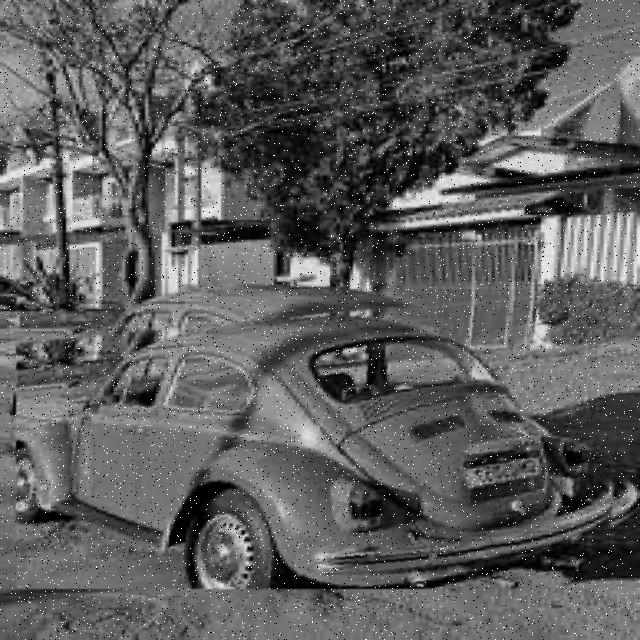car: (17, 285, 633, 590)
